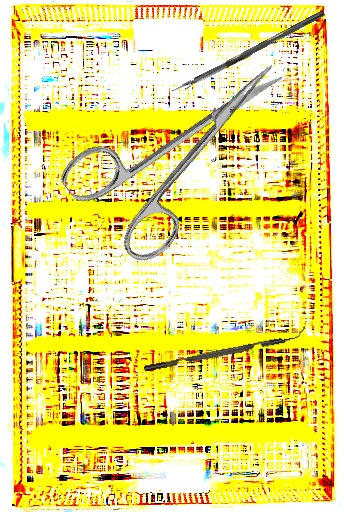Chopper: (142, 326, 308, 372)
Iris Scissors: (54, 24, 321, 275)
Spatula Surgical: (171, 36, 278, 96)
Surgical Spoon: (181, 9, 326, 90)
